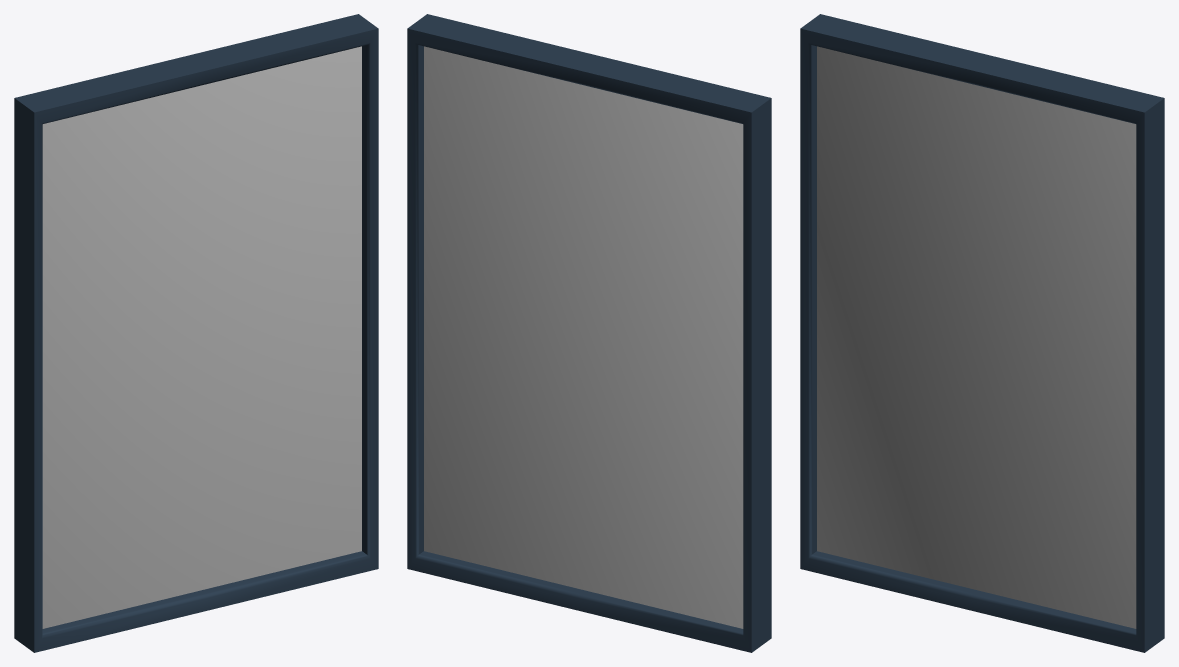
Rendered from Glass-Wall-2.fbx.
The picture shows the model from 3 angles, left to right: view 1: azimuth 30°, elevation 25°; view 2: azimuth 150°, elevation 25°; view 3: azimuth 330°, elevation 25°; orthographic projection.
Parts seen in each view (by area): view 1: Glass-Wall-2; view 2: Glass-Wall-2; view 3: Glass-Wall-2.
Boxes of the visible parts, <box> form: Glass-Wall-2: <box>14,14,378,652</box>; Glass-Wall-2: <box>407,14,771,652</box>; Glass-Wall-2: <box>800,14,1164,652</box>.
Bounding box in the file's own units: 2 × 3 × 0.2.
